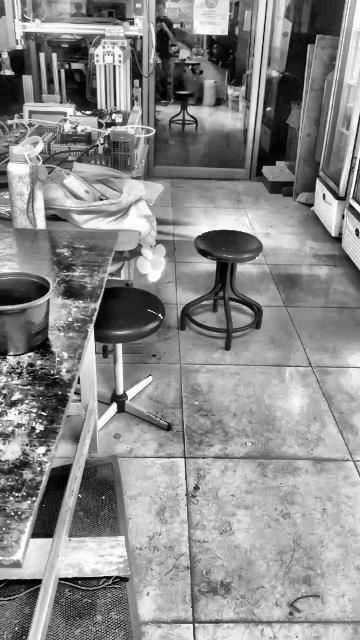pot: (0, 272, 53, 355)
